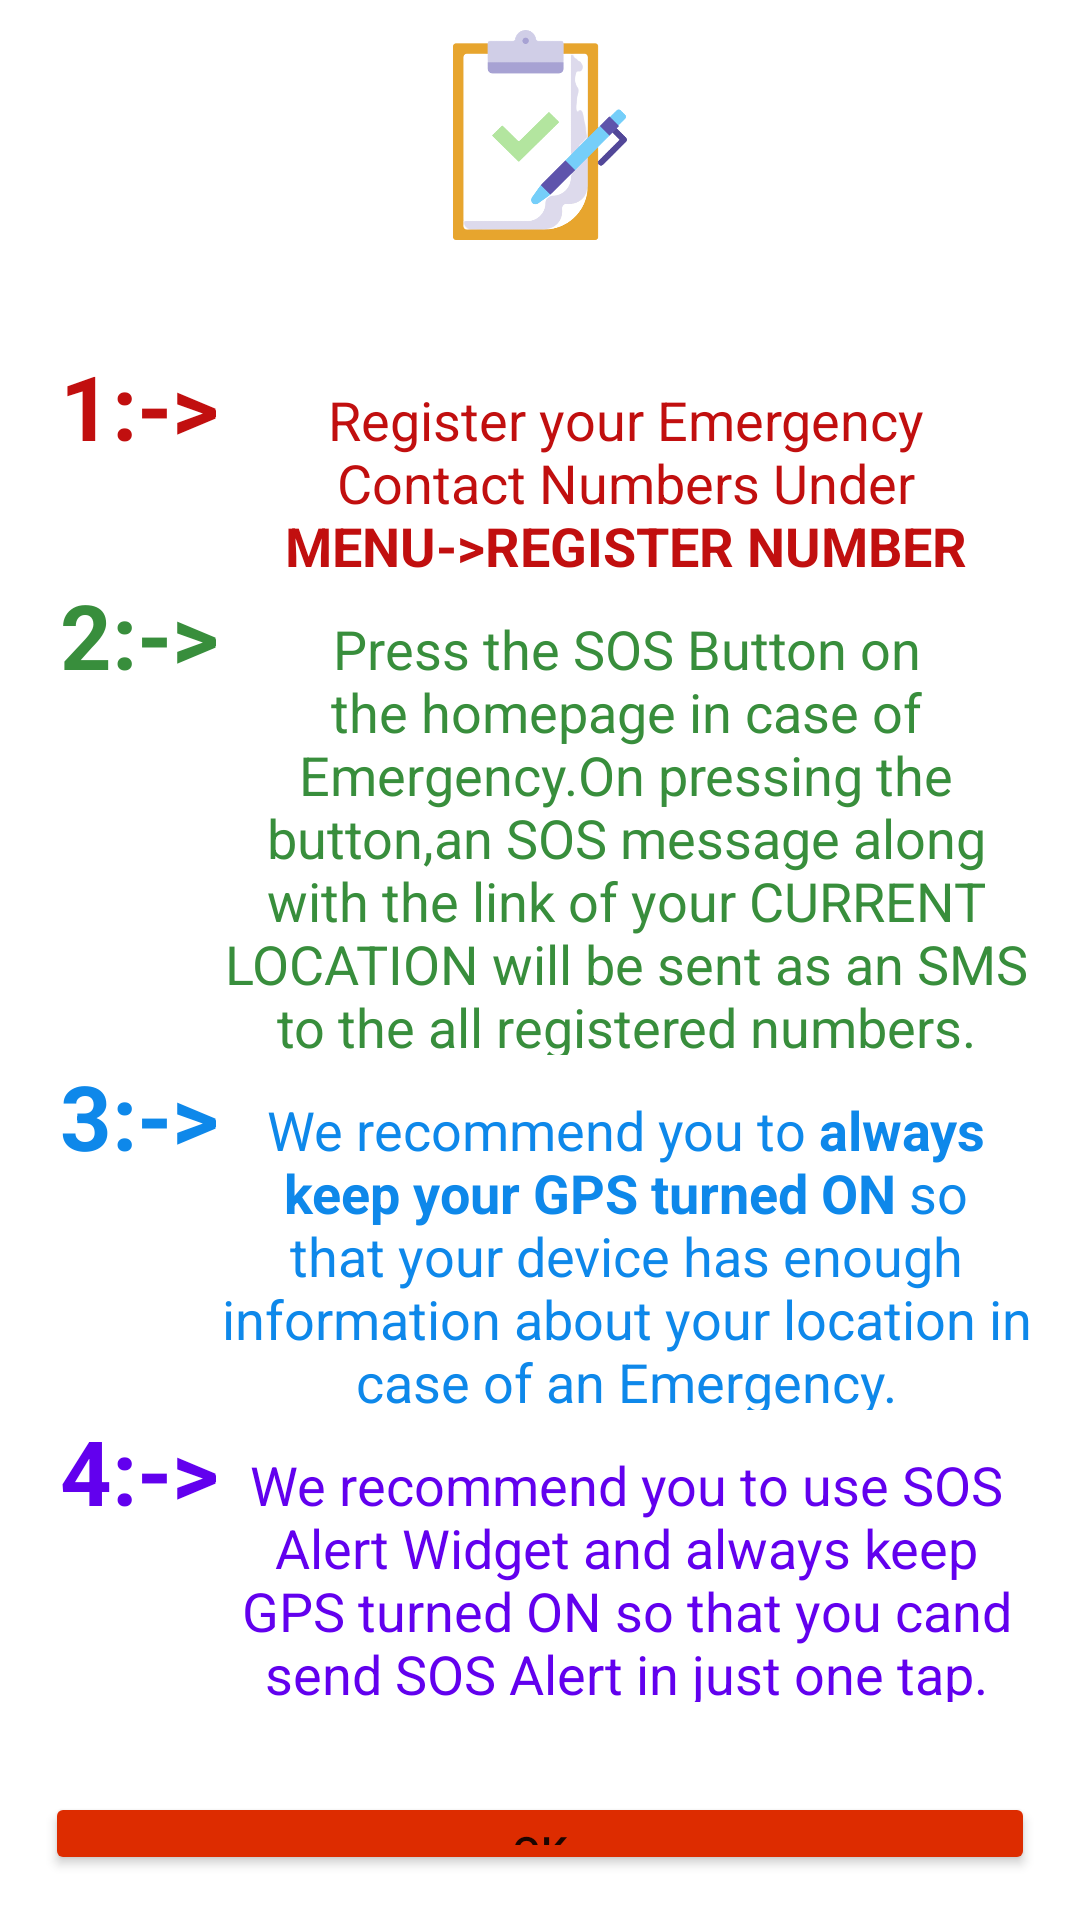

Screen size 1080 × 1920. Icon name, then its center in pixels as [x,y]:
Instructions: [540,135]
